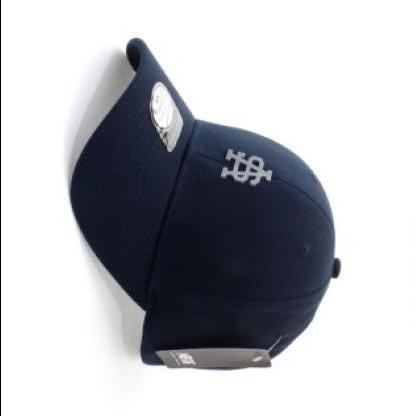cap: (66, 27, 350, 382)
